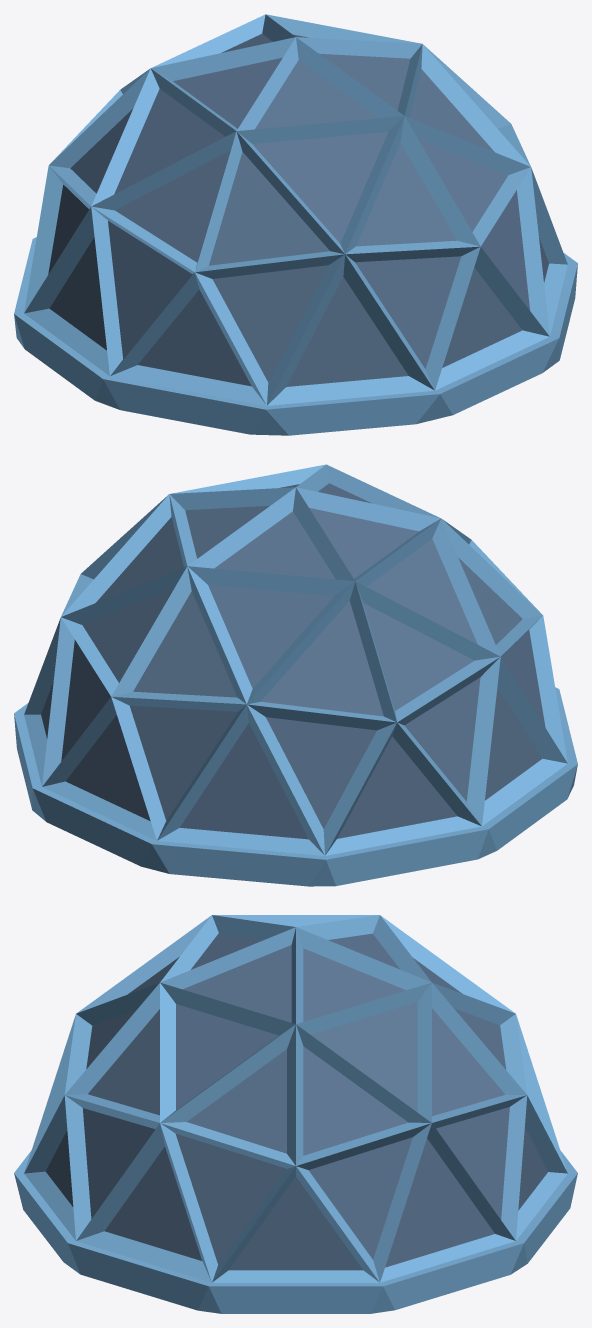
The model's file is dome.glb.
3 views of the same model, one above another, from view 1: azimuth 30°, elevation 25°; view 2: azimuth 150°, elevation 25°; view 3: azimuth 270°, elevation 25° (orthographic). The views are drawn at different scales.
Bounding box in the file's own units: 11.09 × 6.25 × 11.66.
1 material, 1 textured.
